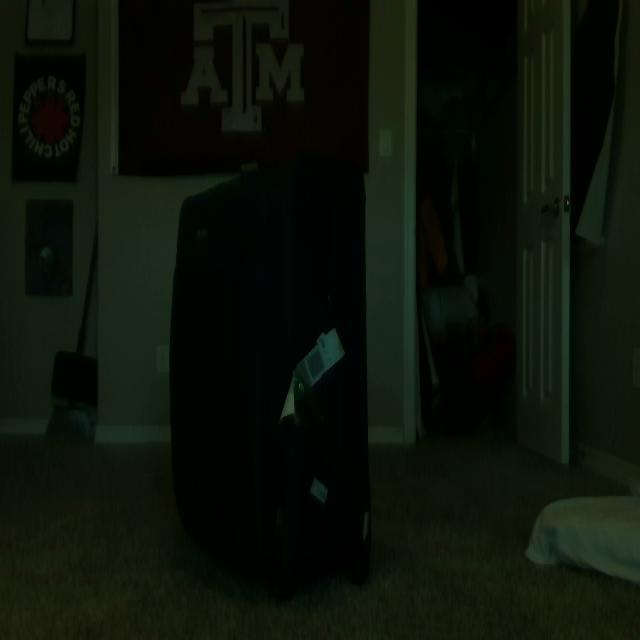suitcase: (167, 156, 374, 592)
